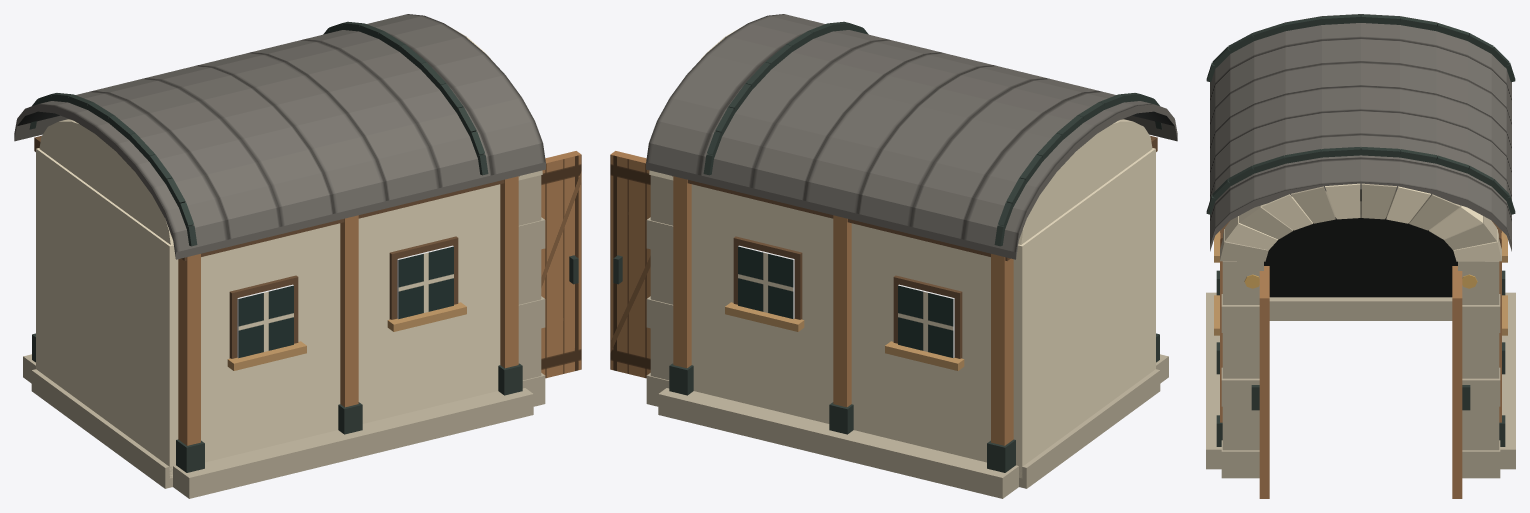
The model's file is collect-station.glb.
3 renders of one model, left to right at view 1: azimuth 30°, elevation 25°; view 2: azimuth 150°, elevation 25°; view 3: azimuth 270°, elevation 25°, orthographic. The views are drawn at different scales.
Visible parts, largest first — view 1: Mesh_GarageEnvelope_FacilityDetailPaint, Neutral barrel roof, Mesh_DoorLeft_FacilityDetailPaint, Mesh_TerminalRole_FacilityDetailPaint; view 2: Mesh_GarageEnvelope_FacilityDetailPaint, Neutral barrel roof, Mesh_DoorRight_FacilityDetailPaint, Mesh_TerminalRole_FacilityDetailPaint; view 3: Neutral barrel roof, Mesh_TerminalRole_FacilityDetailPaint, Mesh_GarageEnvelope_FacilityDetailPaint, Mesh_GarageEnvelope_GarageInterior, Mesh_DoorLeft_FacilityDetailPaint, Mesh_DoorRight_FacilityDetailPaint, Mesh_ActivityPulse_brass.
Boxes of the visible parts, x1,y1,x2,y2 form: Mesh_GarageEnvelope_FacilityDetailPaint: (23,21,533,498); Neutral barrel roof: (14,14,545,259); Mesh_DoorLeft_FacilityDetailPaint: (541,151,581,378); Mesh_TerminalRole_FacilityDetailPaint: (451,27,545,406); Mesh_GarageEnvelope_FacilityDetailPaint: (658,21,1168,498); Neutral barrel roof: (646,14,1177,259); Mesh_DoorRight_FacilityDetailPaint: (610,151,650,378); Mesh_TerminalRole_FacilityDetailPaint: (646,27,740,406); Neutral barrel roof: (1210,14,1511,251); Mesh_TerminalRole_FacilityDetailPaint: (1220,183,1501,478); Mesh_GarageEnvelope_FacilityDetailPaint: (1206,14,1515,469); Mesh_GarageEnvelope_GarageInterior: (1264,189,1457,297); Mesh_DoorLeft_FacilityDetailPaint: (1251,266,1269,498); Mesh_DoorRight_FacilityDetailPaint: (1452,266,1470,498); Mesh_ActivityPulse_brass: (1244,274,1477,288).
Size of the model in its own units: 1.25 by 0.883 by 0.8288.
4 materials, 2 textured.
